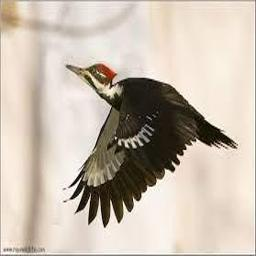Woodpecker: (63, 63, 238, 229)
